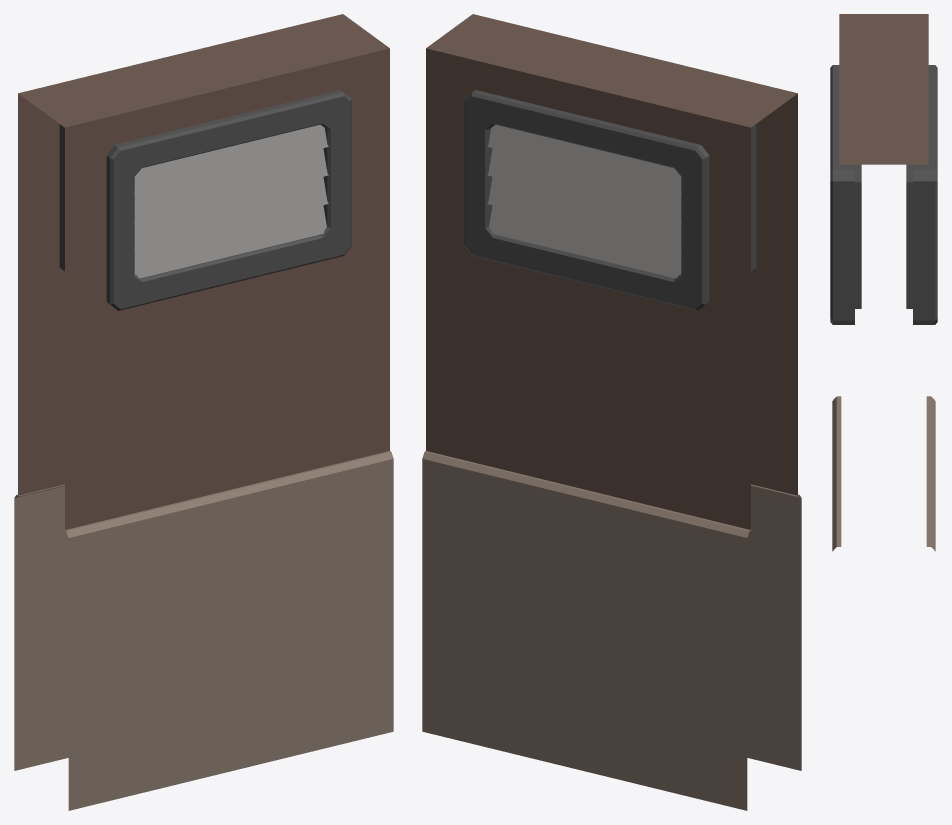
File: pared_2.fbx
3 views of the same model, side by side, from view 1: azimuth 30°, elevation 25°; view 2: azimuth 150°, elevation 25°; view 3: azimuth 270°, elevation 25° (orthographic). The views are drawn at different scales.
Visible parts, largest first — view 1: base1 (×2), zocalo (×2), borde_rejilla (×2), rejilla_2, rejilla_3, rejilla_4, rejilla_1; view 2: base1 (×2), zocalo (×2), borde_rejilla (×2), rejilla_2, rejilla_3, rejilla_4, rejilla_1; view 3: base1 (×2), borde_rejilla (×2), zocalo (×2).
Boxes of the visible parts, x1,y1,x2,y2 form: base1 (×2): (18, 14, 389, 529); zocalo (×2): (14, 451, 393, 810); borde_rejilla (×2): (59, 90, 351, 310); rejilla_2: (134, 148, 328, 222); rejilla_3: (134, 177, 328, 251); rejilla_4: (134, 205, 326, 278); rejilla_1: (134, 124, 328, 194); base1 (×2): (426, 14, 797, 529); zocalo (×2): (422, 451, 801, 810); borde_rejilla (×2): (464, 90, 756, 310); rejilla_2: (487, 148, 681, 222); rejilla_3: (487, 177, 681, 251); rejilla_4: (489, 205, 681, 278); rejilla_1: (487, 124, 681, 194); base1 (×2): (839, 14, 928, 308); borde_rejilla (×2): (830, 65, 937, 324); zocalo (×2): (832, 396, 935, 551).
Bounding box in the file's own units: 1 × 2 × 0.3014.
